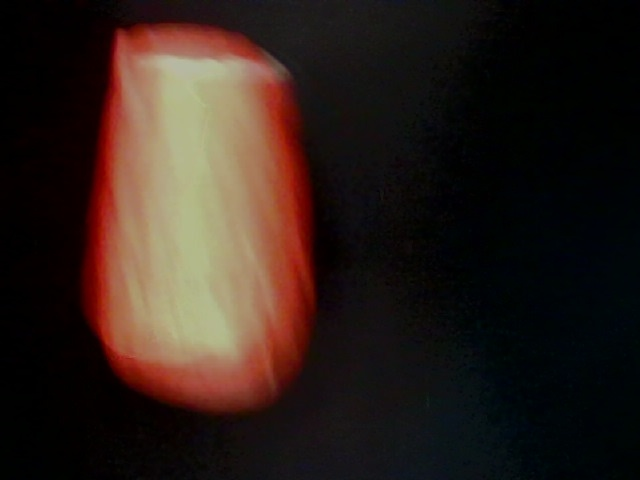CYLJ: (49, 405, 277, 480)
